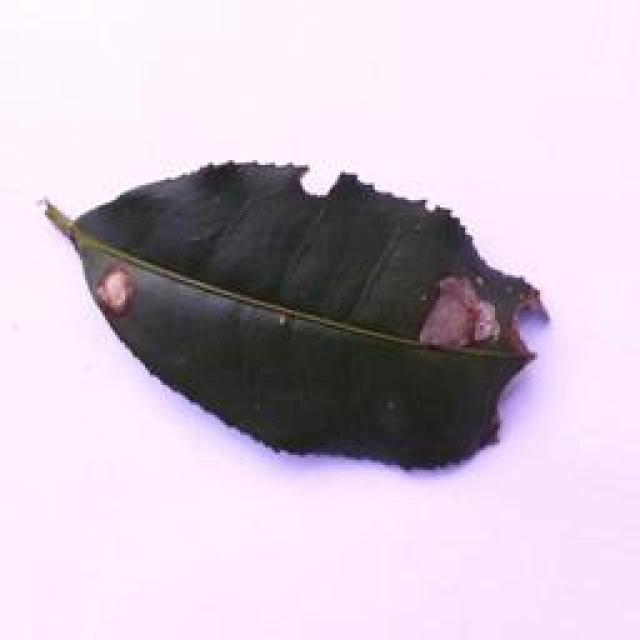Gray Blight: (39, 158, 580, 466)
